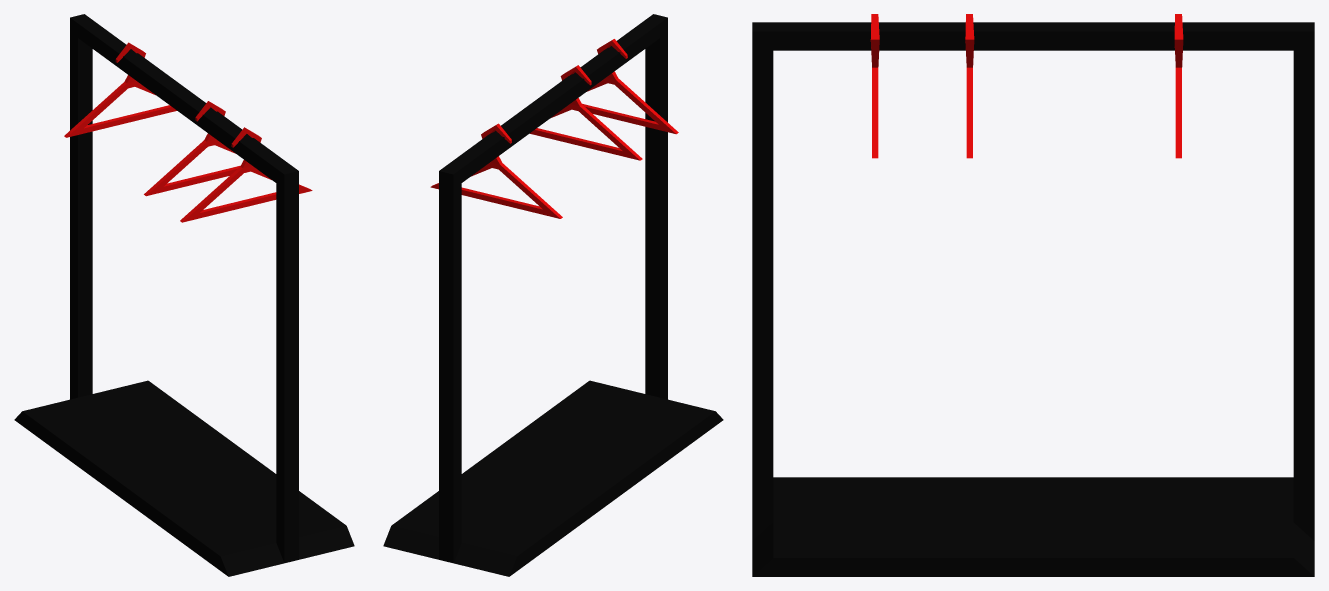
The model's file is ClothingRack.fbx.
3 renders of one model, left to right at view 1: azimuth 30°, elevation 25°; view 2: azimuth 150°, elevation 25°; view 3: azimuth 270°, elevation 25°, orthographic. The views are drawn at different scales.
Parts seen in each view (by area): view 1: Cube, Cube.003, Cube.001, Cube.002; view 2: Cube, Cube.002, Cube.003, Cube.001; view 3: Cube, Cube.003, Cube.002, Cube.001.
Part boxes in pixels (x1=…): Cube: x1=14, y1=14, x2=354, y2=576; Cube.003: x1=64, y1=42, x2=176, y2=137; Cube.001: x1=180, y1=127, x2=312, y2=222; Cube.002: x1=144, y1=101, x2=240, y2=196; Cube: x1=383, y1=14, x2=723, y2=576; Cube.002: x1=530, y1=65, x2=642, y2=160; Cube.003: x1=430, y1=123, x2=562, y2=218; Cube.001: x1=582, y1=39, x2=678, y2=134; Cube: x1=752, y1=22, x2=1314, y2=576; Cube.003: x1=1174, y1=14, x2=1183, y2=158; Cube.002: x1=965, y1=14, x2=974, y2=158; Cube.001: x1=870, y1=14, x2=879, y2=158.
Size of the model in its own units: 70.3 by 205 by 200.
